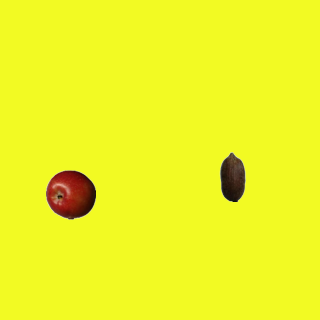Apple Braeburn: (45, 169, 95, 219)
Nut Pecan: (207, 151, 257, 201)
